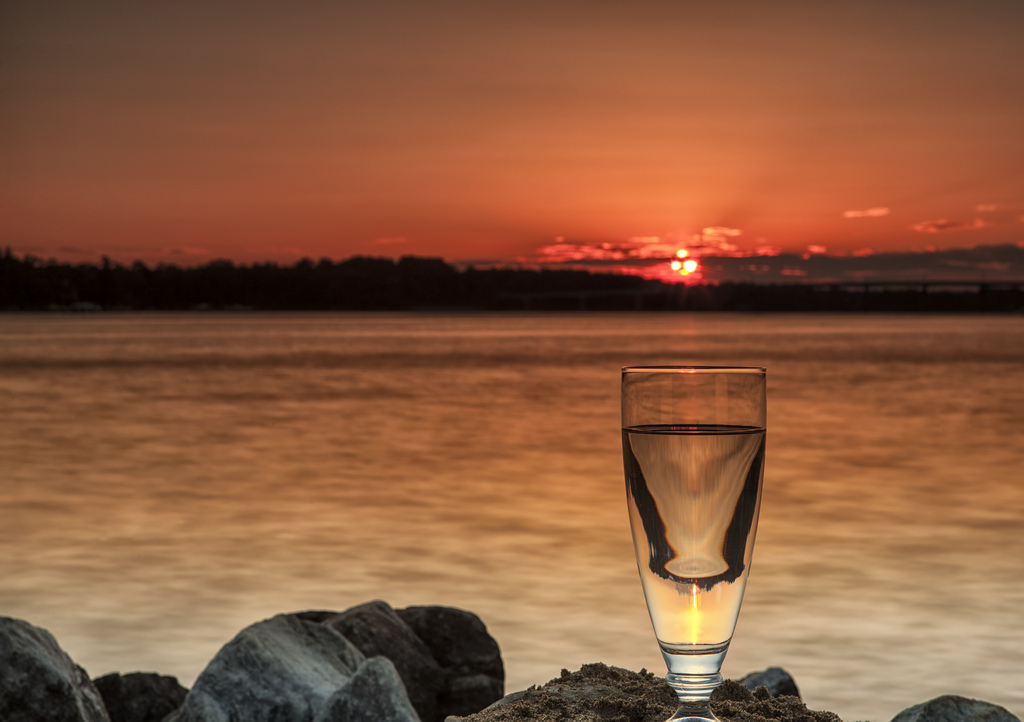glass of water: (620, 364, 770, 715)
